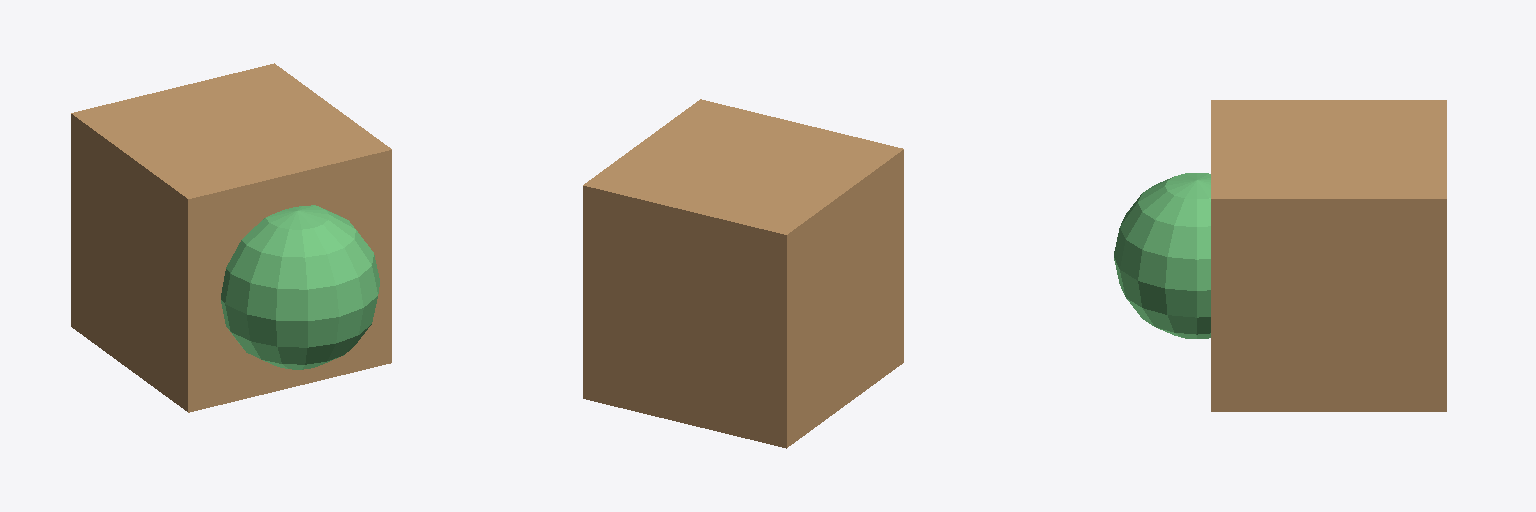
3 views of the same model, side by side, from view 1: azimuth 30°, elevation 25°; view 2: azimuth 150°, elevation 25°; view 3: azimuth 270°, elevation 25° (orthographic).
Visible parts, largest first — view 1: 立方体, 球体; view 2: 立方体; view 3: 立方体, 球体.
Part boxes in pixels (x1,y1,x2,y2): 立方体: (71, 63, 391, 412); 球体: (221, 205, 379, 369); 立方体: (583, 99, 903, 448); 立方体: (1211, 100, 1446, 411); 球体: (1114, 173, 1210, 338).
Size of the model in its own units: 200 by 200 by 283.